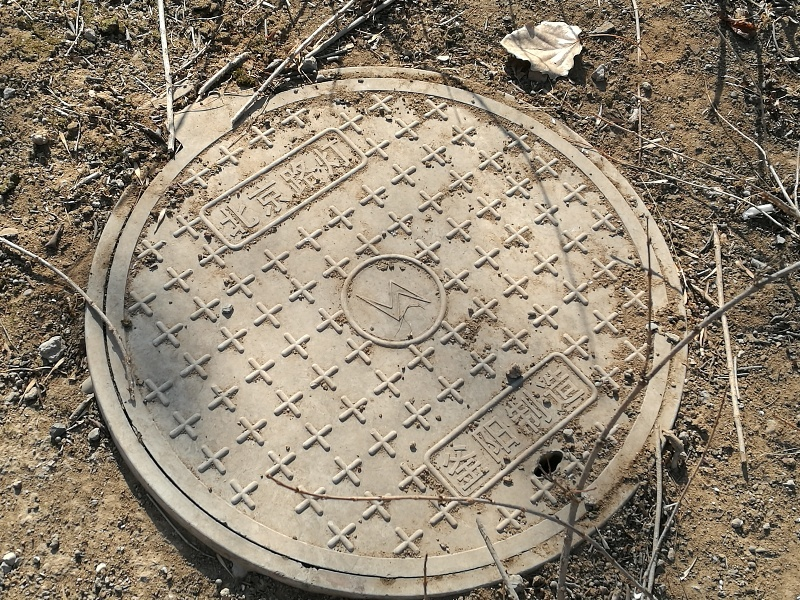text: (449, 358, 464, 495), (465, 358, 480, 495), (481, 358, 496, 495), (497, 358, 512, 495), (513, 358, 528, 495), (529, 358, 544, 495), (545, 358, 560, 495), (561, 358, 576, 495), (225, 135, 240, 245), (241, 135, 256, 245), (257, 135, 272, 245), (273, 135, 288, 245), (289, 135, 304, 245), (305, 135, 320, 245), (321, 135, 336, 245), (337, 135, 352, 245), (577, 358, 589, 495), (437, 358, 448, 495), (212, 135, 224, 245), (353, 135, 360, 245)
